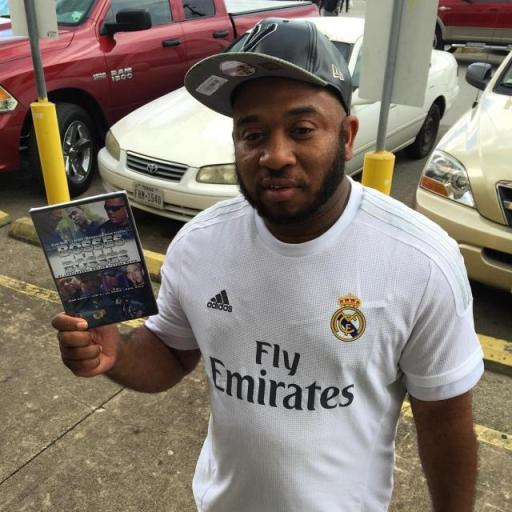Adidas: (203, 288, 236, 315)
Emirates: (206, 338, 360, 415)
